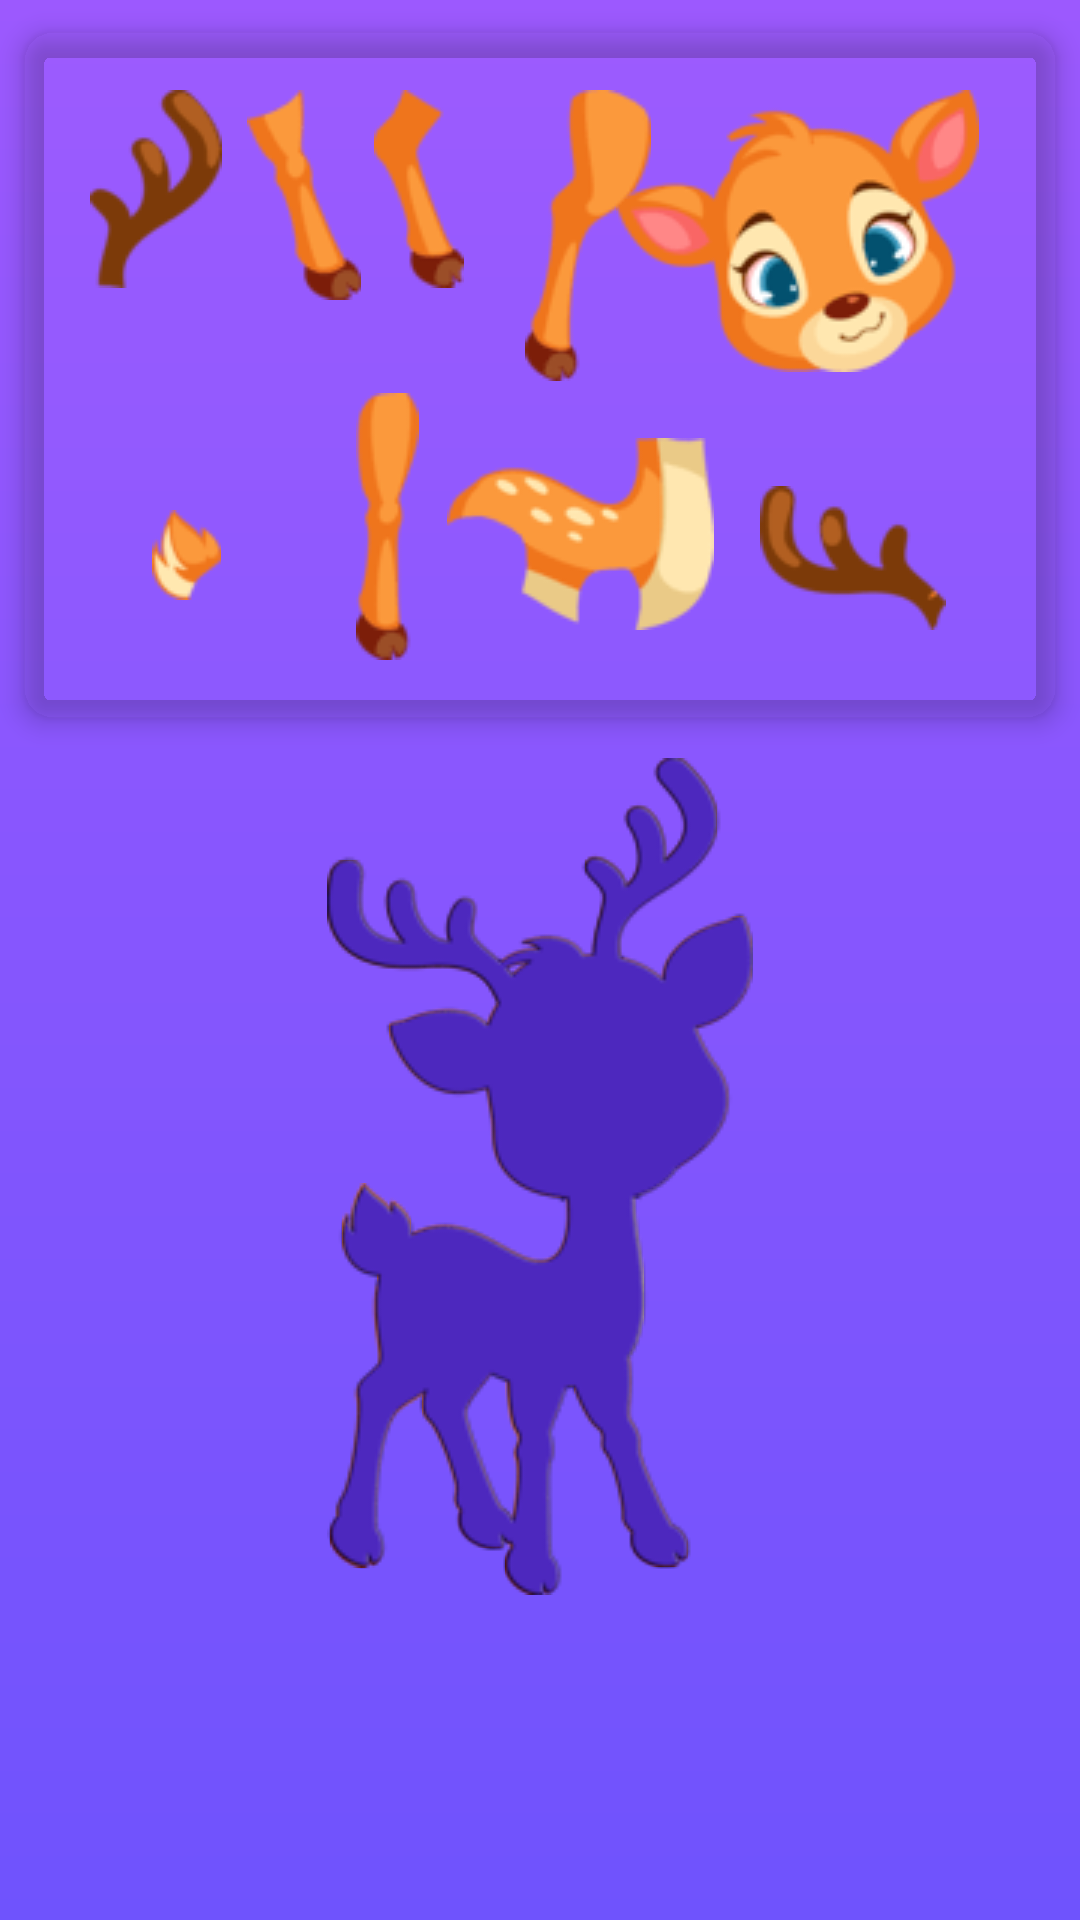

Named icons in this screenshot (1080×1920) and their centers, (x=x, y=y):
chap shoq: (x=156, y=189), (x=651, y=857)
dum: (x=186, y=555), (x=376, y=1228)
gavda: (x=580, y=534), (x=510, y=1291)
ong shoq: (x=853, y=558), (x=420, y=932)
